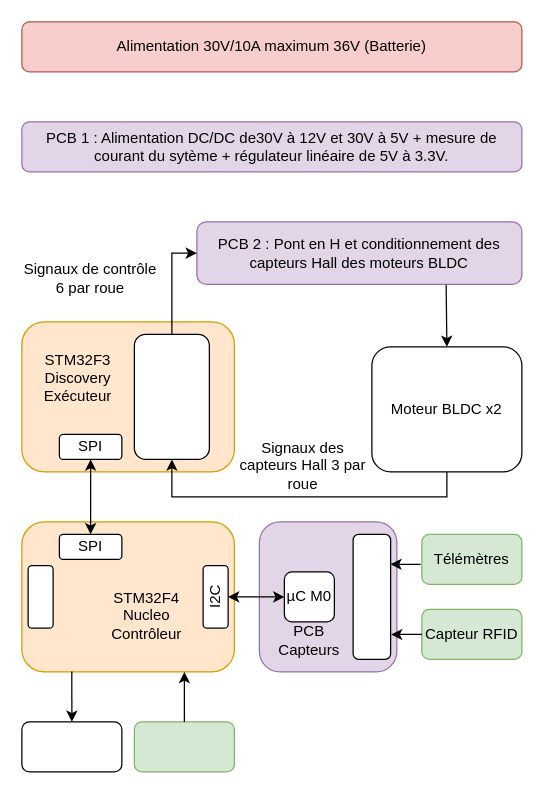
This 544x794 diagram has some shape labels left out. The centre of each missing label's shape, as x and y in pixels:
Bras à 6 axes: (71,746)
Condtionnements: (371,596)
Lidar: (183,746)
Sequenceur: (171,396)
UART: (40,596)
